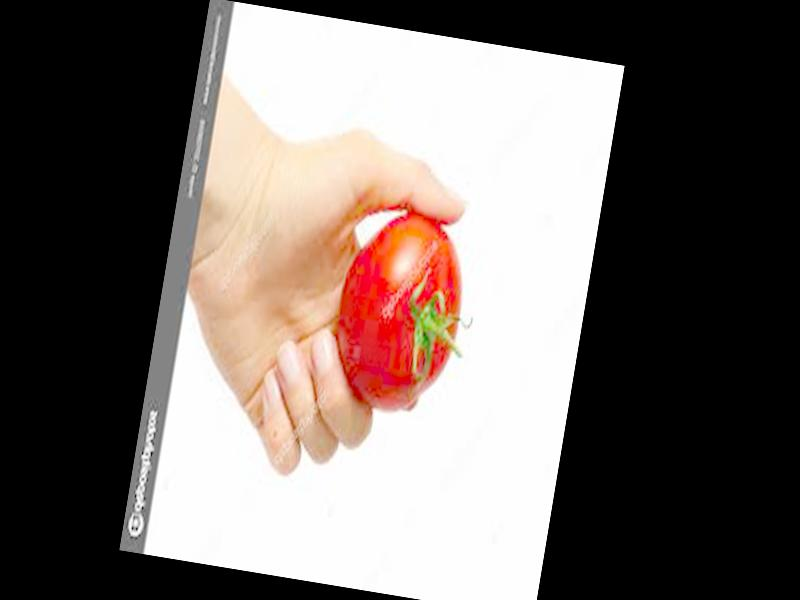Tomato: (323, 204, 476, 416)
